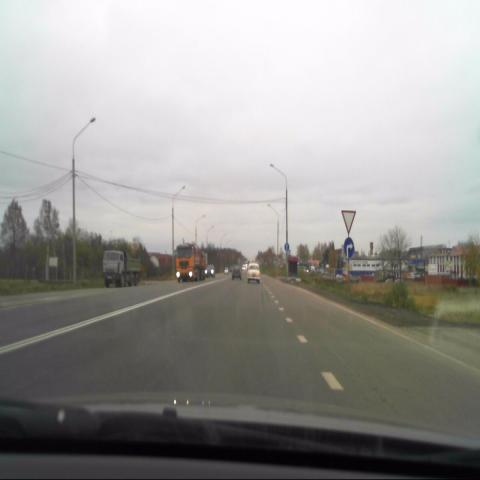4_1_2: (344, 236, 354, 259)
